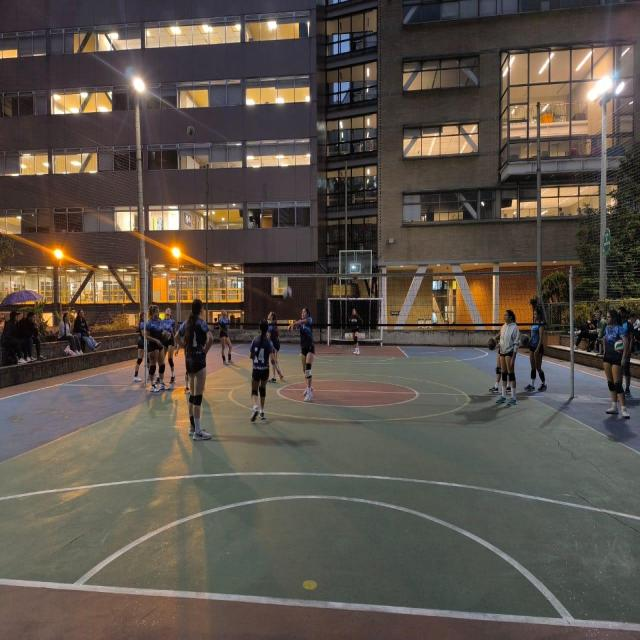volleyball: (488, 338, 497, 350), (284, 288, 292, 299), (186, 126, 194, 136)
